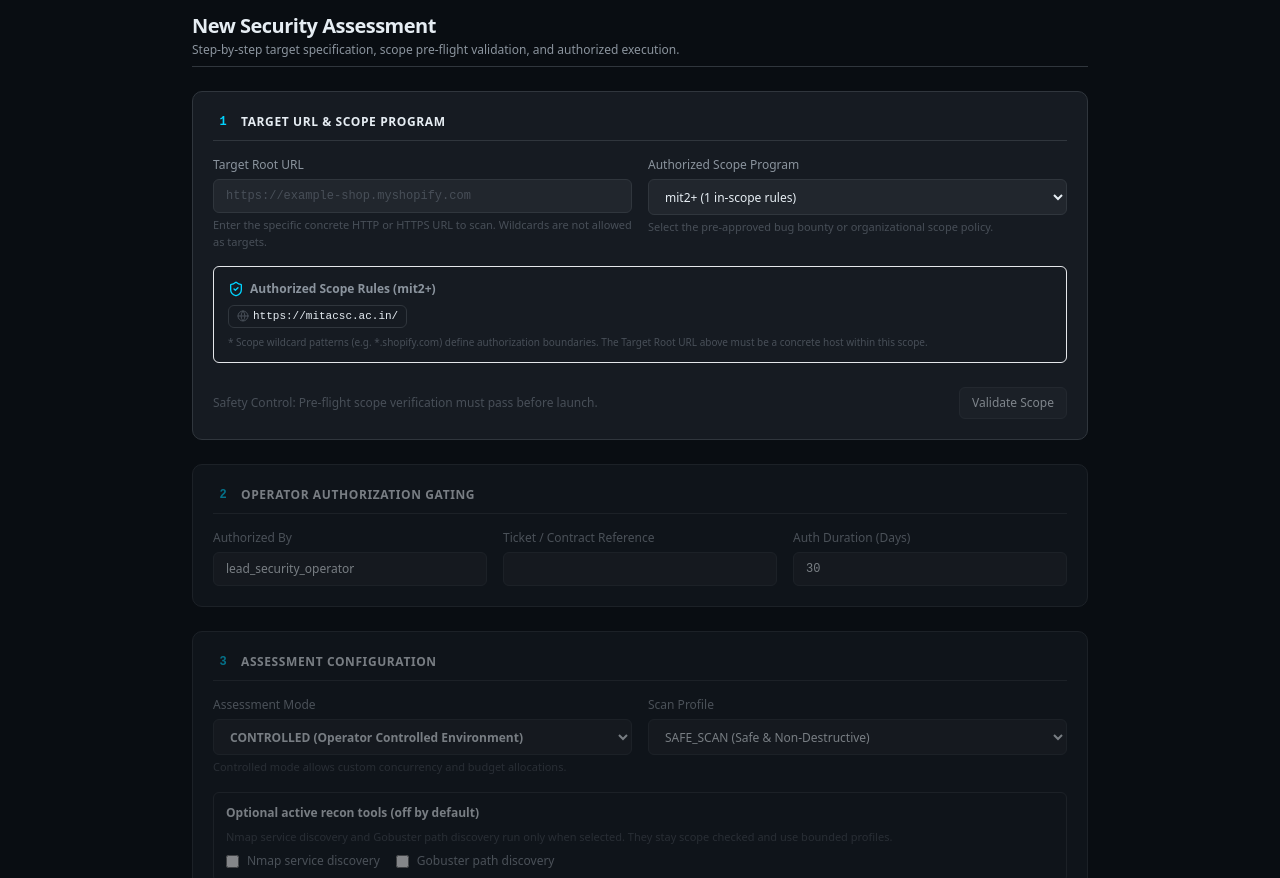
NewAssessment Crash Investigation & Resilience Suite › 2. Scope validation success renders normally
Step 1. Type "https://mitacsc.ac.in/" into the field with placeholder "https://example-shop.myshopify.com" → {"x": 422, "y": 196}, box [213,179,632,213]
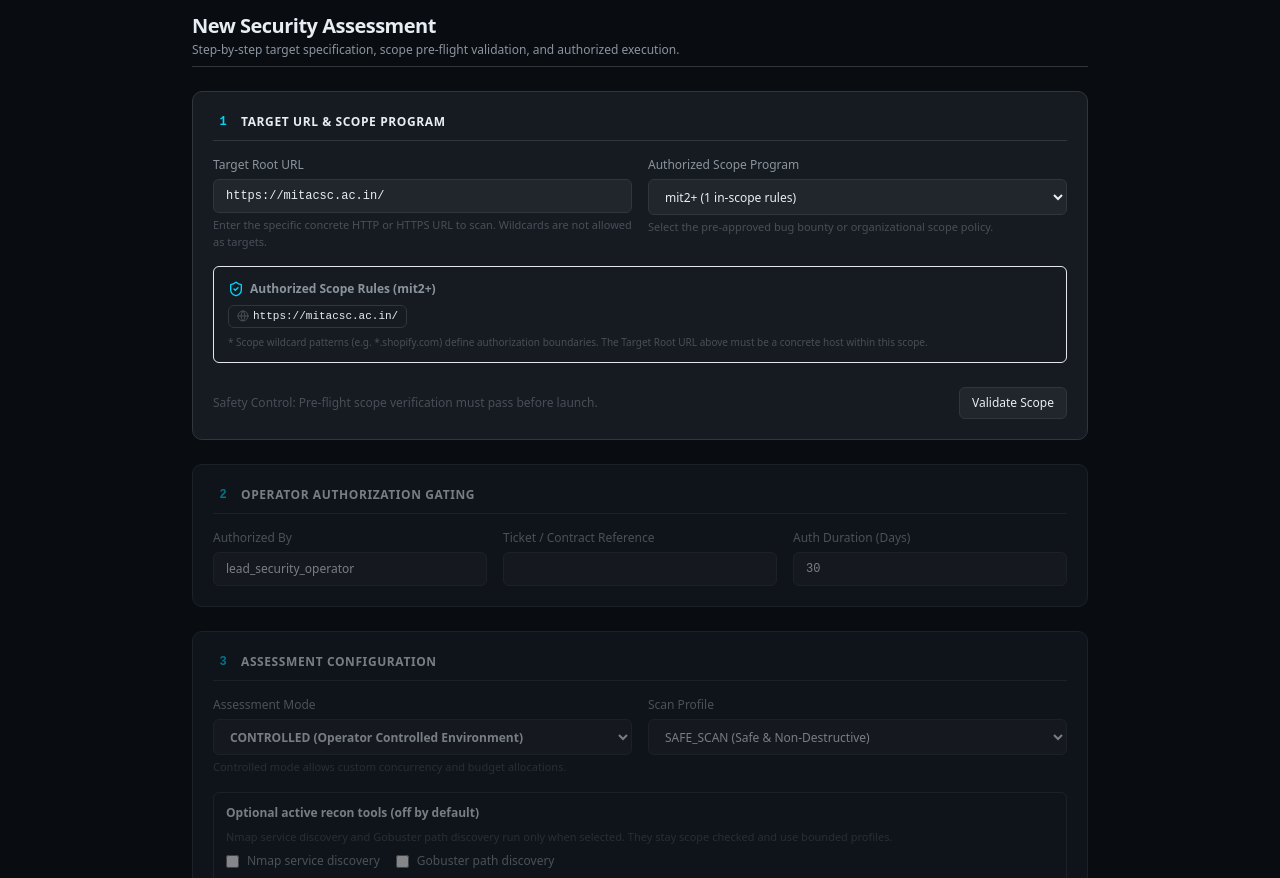
Check: the button "Validate Scope" is enabled
Step 2. Click the button "Validate Scope" → {"x": 1013, "y": 403}, box [959,387,1067,419]
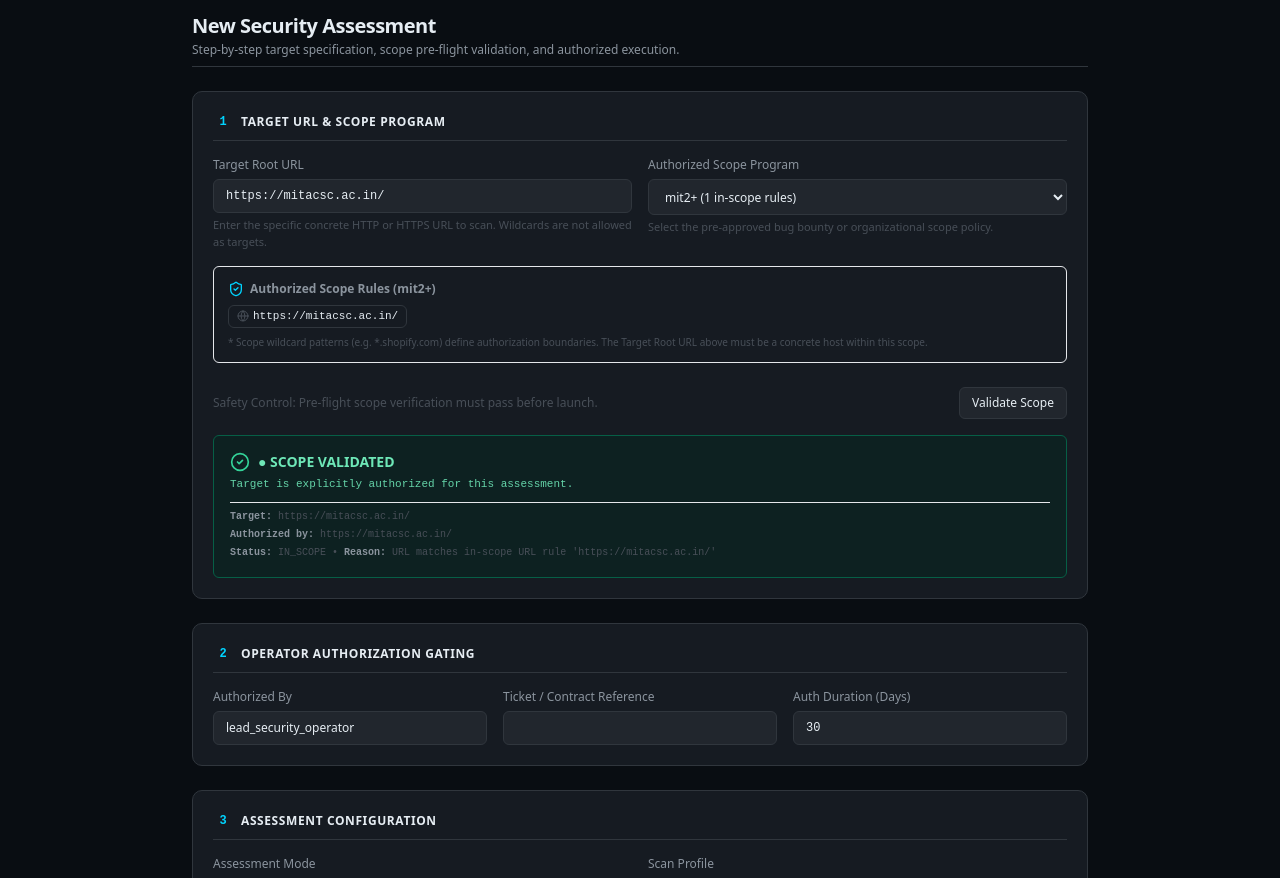
Check: the text "https://mitacsc.ac.in/" below "Authorized Scope Rules (" is shown, box [253,310,398,322]
Check: the text "● SCOPE VALIDATED" is shown, box [258,452,394,472]
Check: the text "Target is explicitly authorized for this assessment." is shown, box [230,478,573,490]
